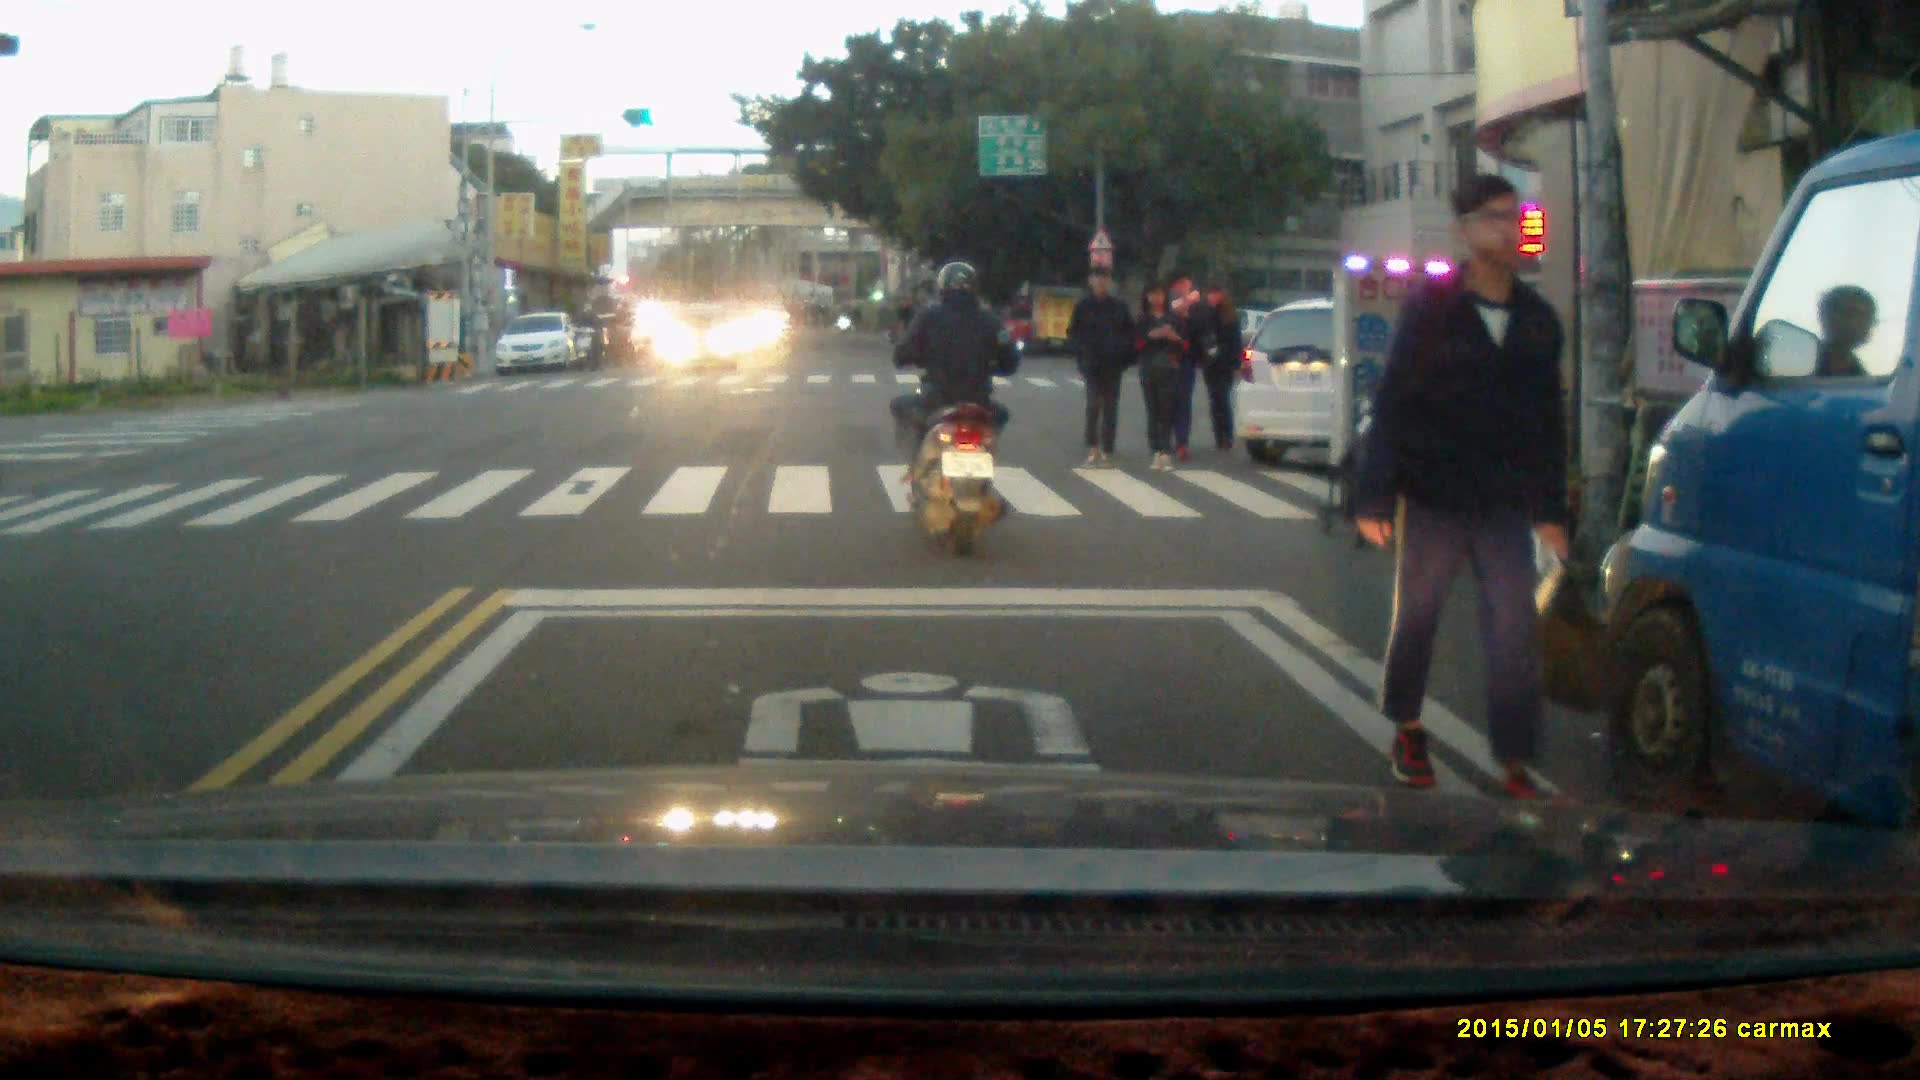pedestrian: (1357, 185, 1579, 821), (1064, 262, 1131, 467), (1130, 280, 1189, 477), (1162, 266, 1206, 466), (1194, 284, 1244, 458)
rider: (887, 259, 1021, 559), (602, 295, 636, 370), (571, 298, 603, 373)
vehicle: (1595, 127, 1920, 895), (1244, 303, 1552, 467), (649, 297, 742, 372), (493, 311, 584, 378)
